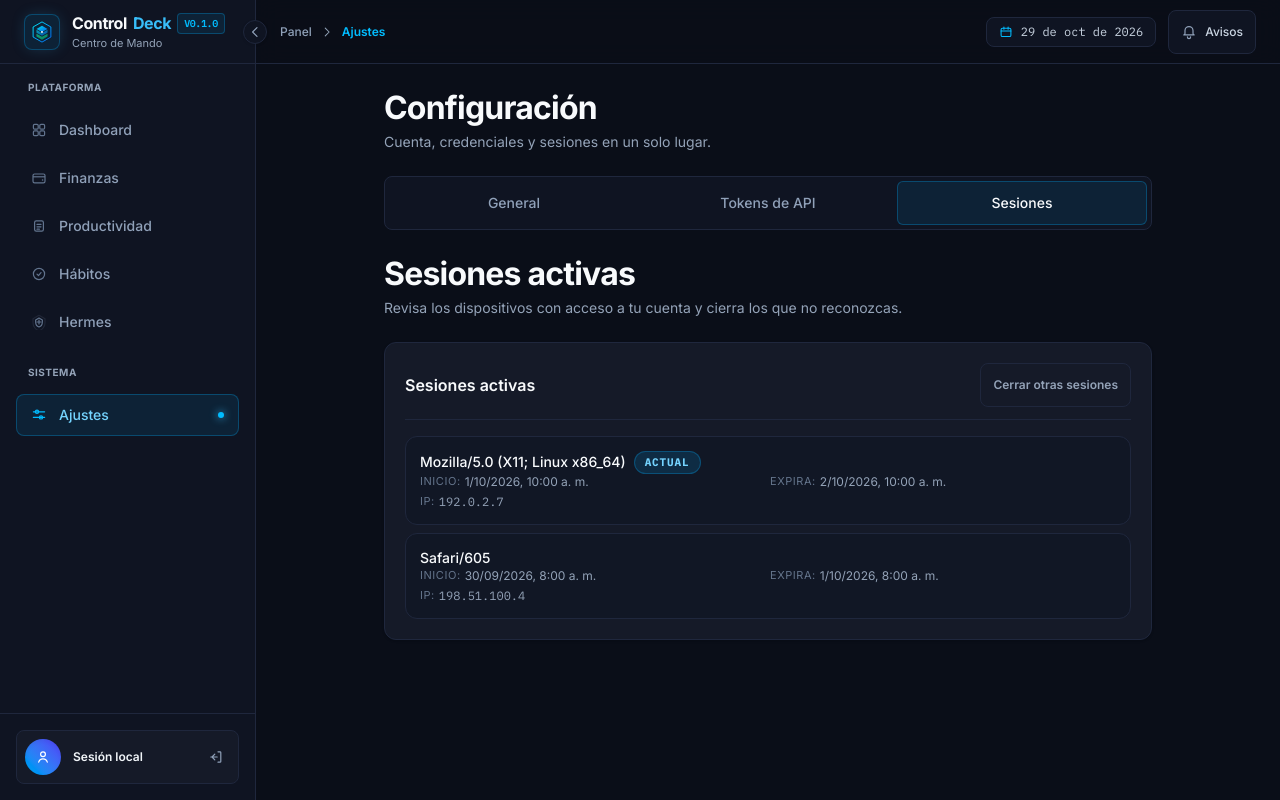
Test case: sessions page › asks for confirmation and closes every other session
The width and height of the screenshot is (1280, 800).
expect the text "Safari/605" is shown: met, box x1=420 y1=548 x2=490 y2=568
Click the button "Cerrar otras sesiones". click: (1056, 385)
box: x1=980 y1=363 x2=1131 y2=407
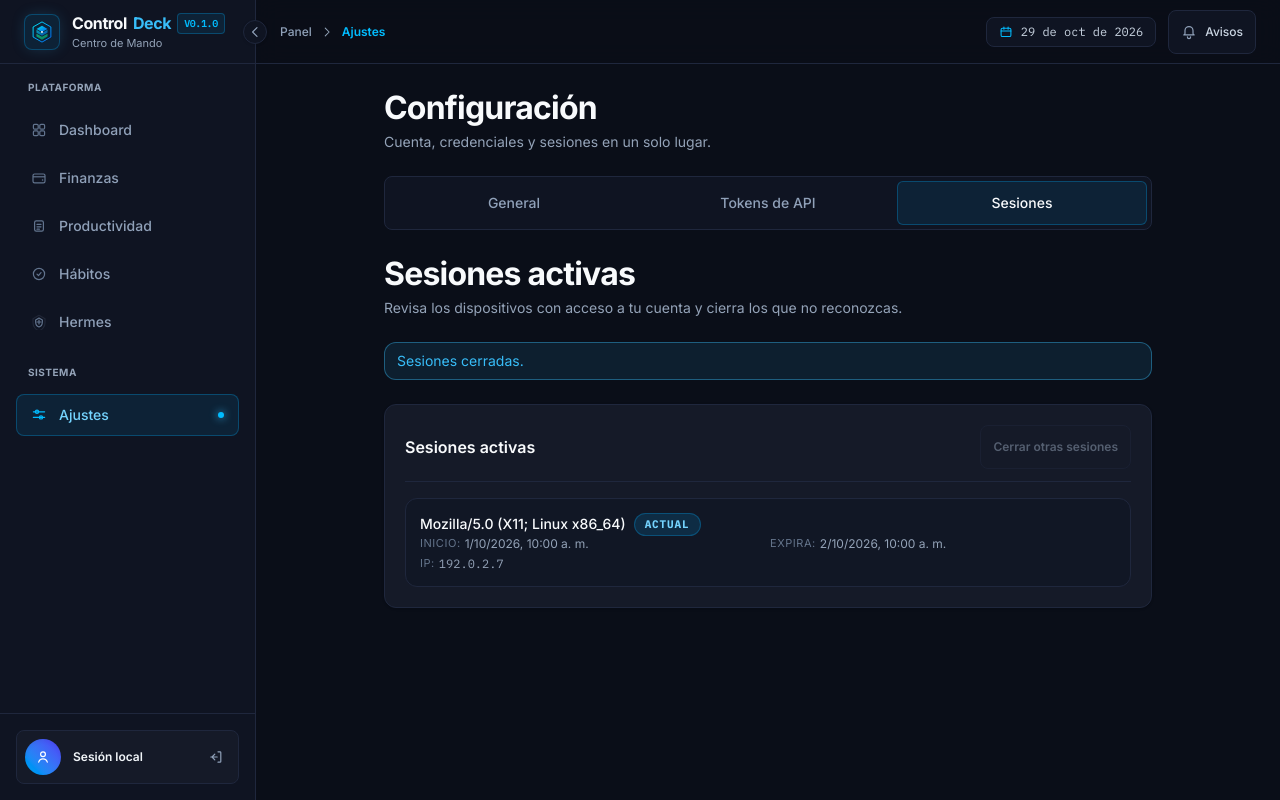
expect the text "Sesiones cerradas." is shown: met, box x1=384 y1=342 x2=1152 y2=380
expect the text "Safari/605" is gone: met
expect the button "Cerrar otras sesiones" is disabled: met, box x1=980 y1=425 x2=1131 y2=469
